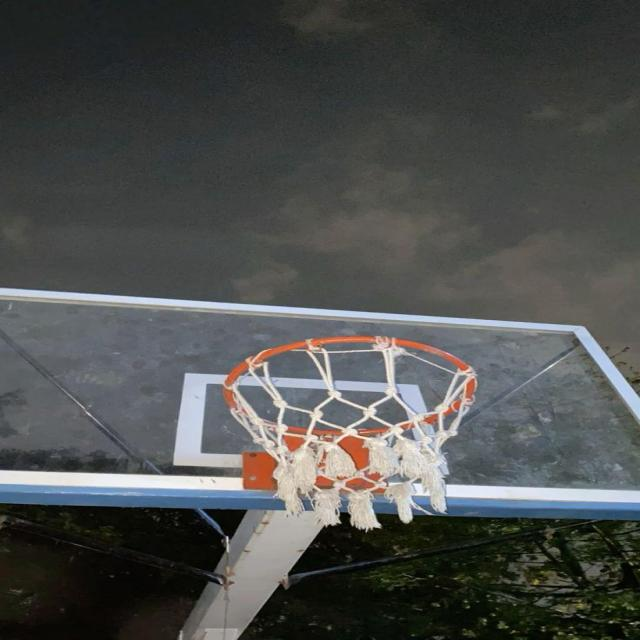hoop: (174, 356, 585, 532)
